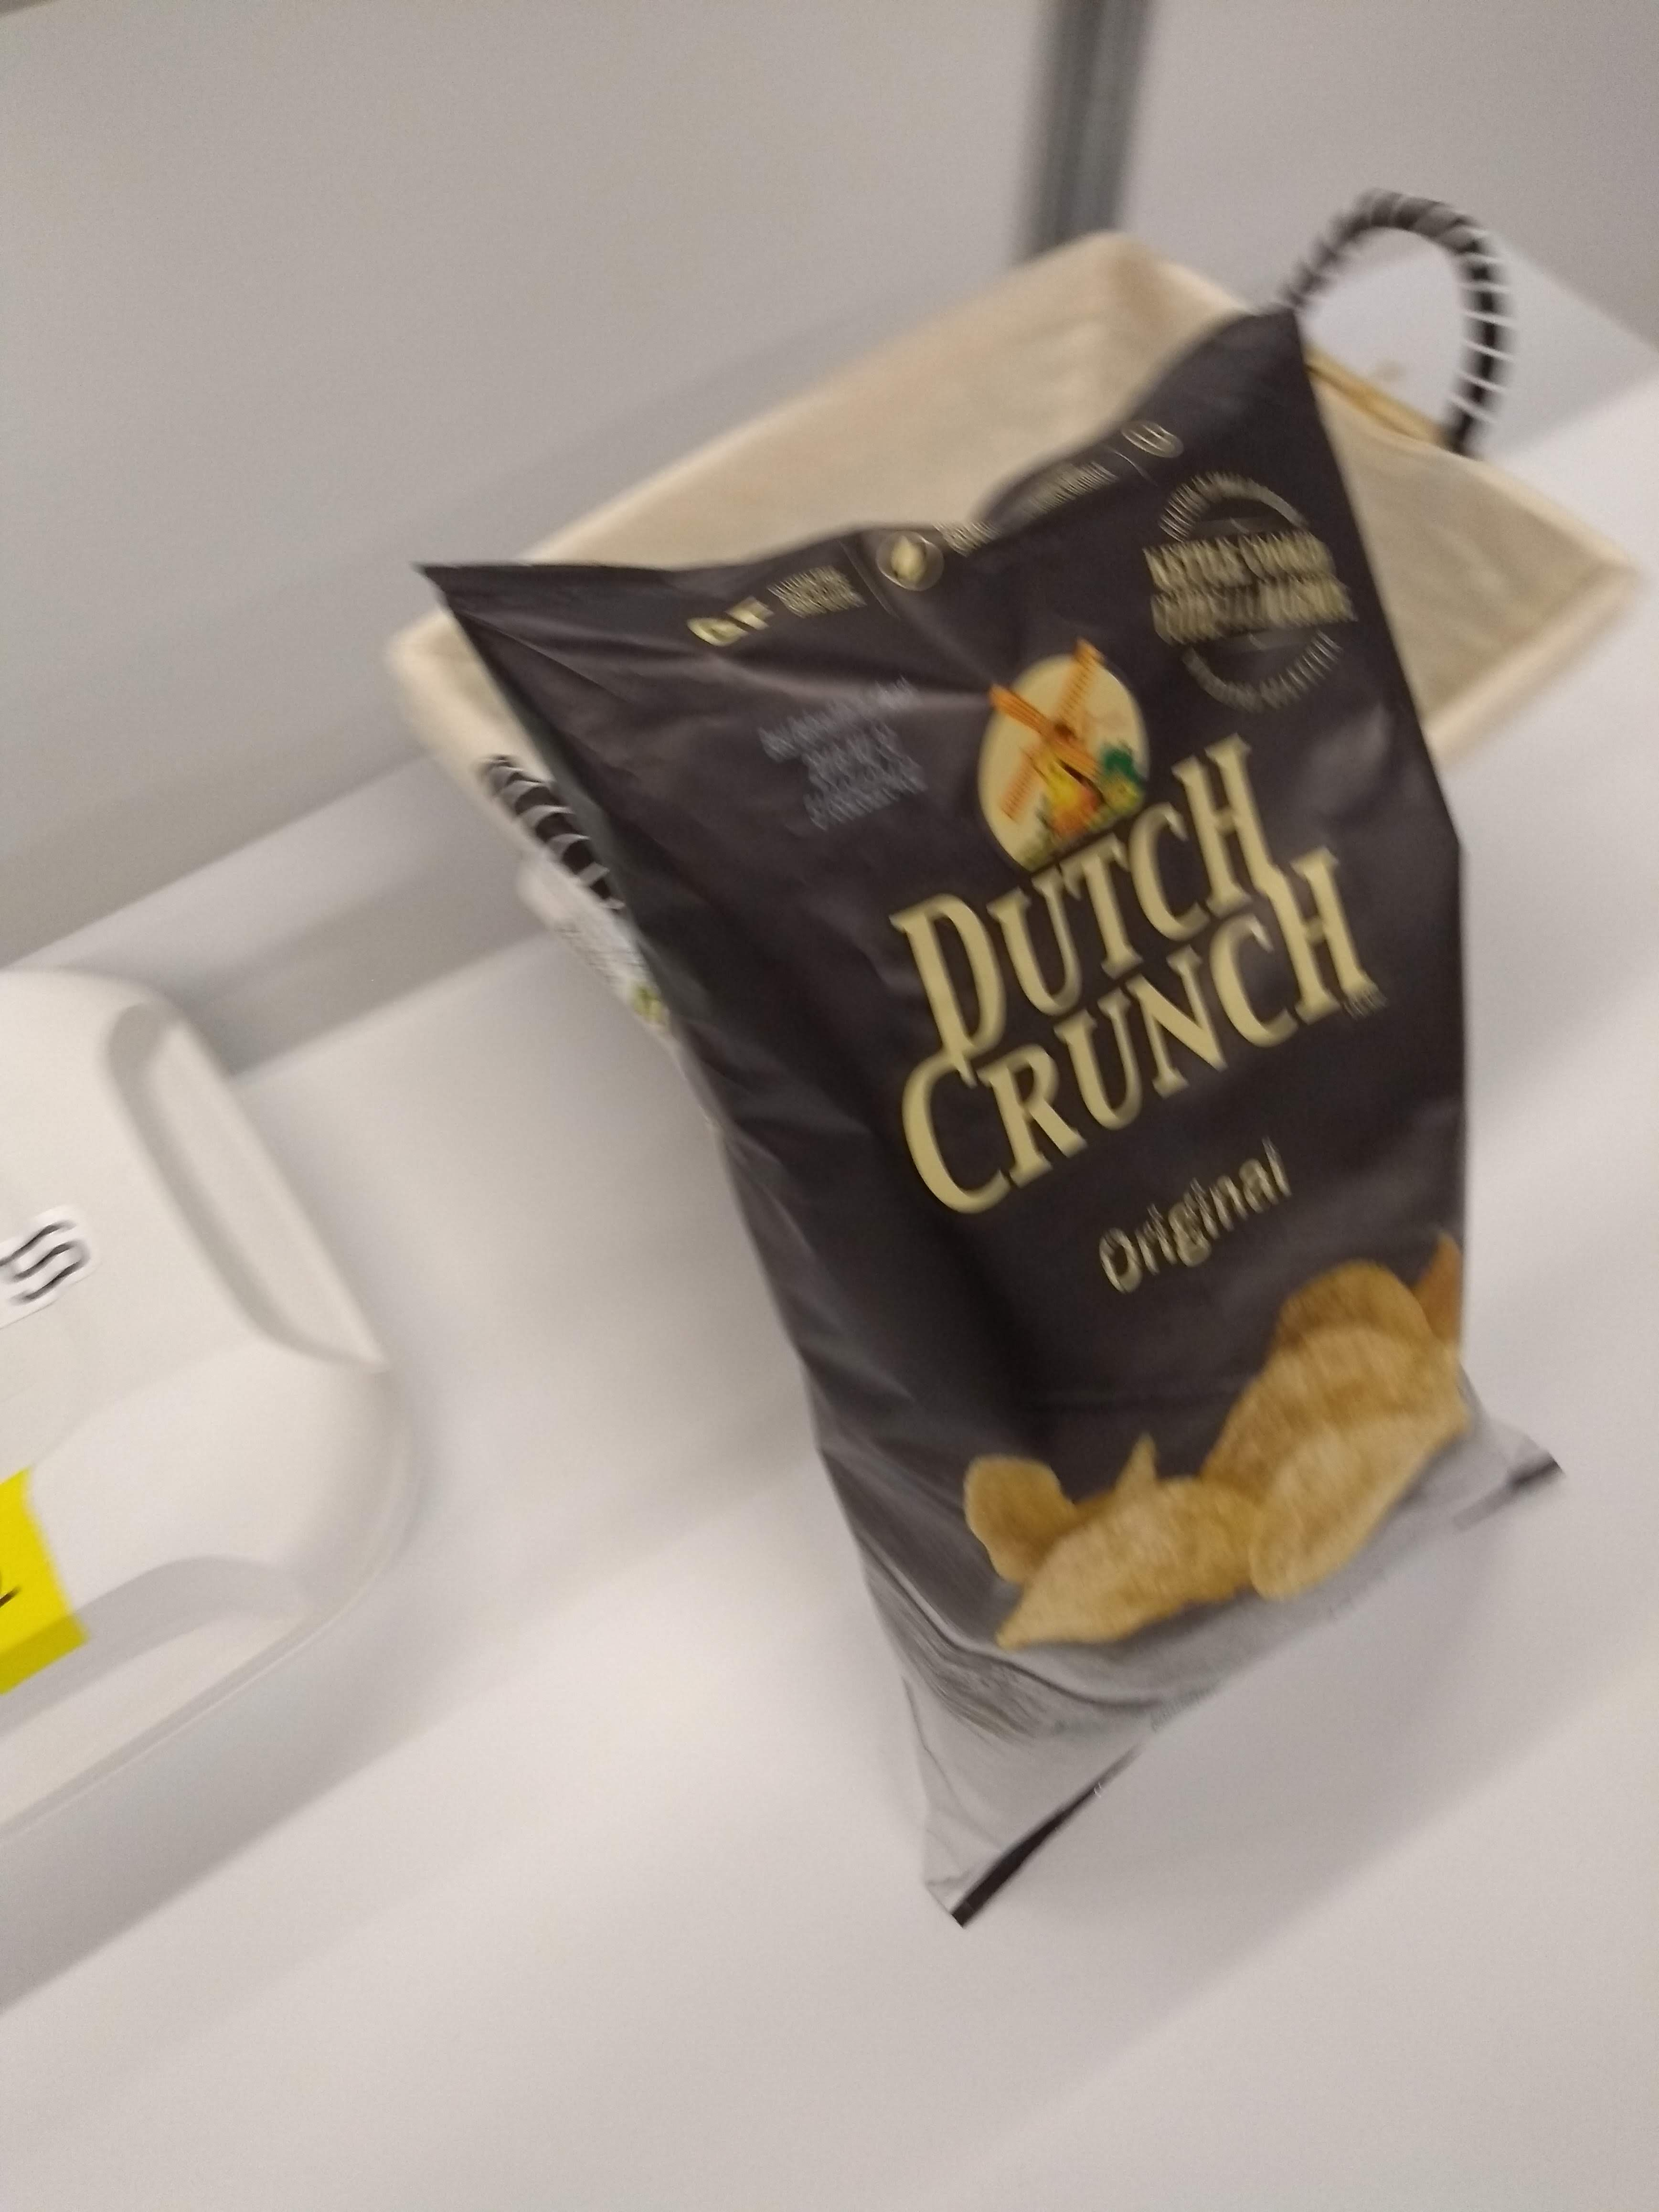potato_chips: (408, 293, 1591, 1944)
